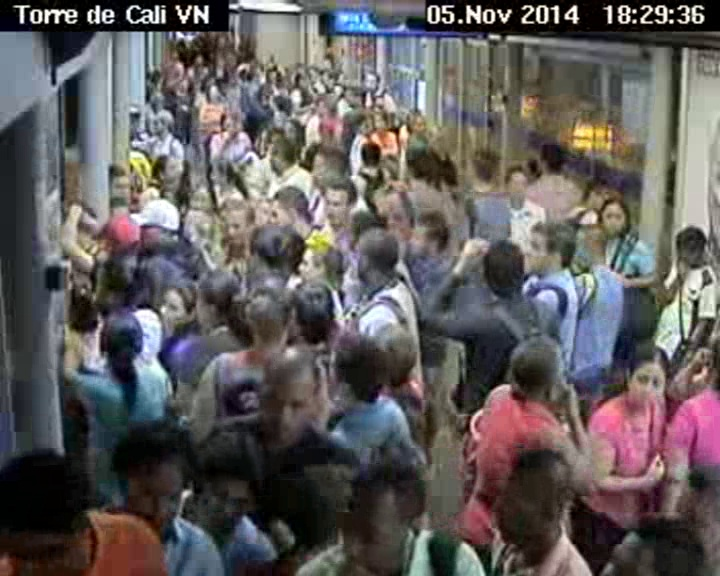person: (1, 429, 96, 576), (330, 456, 437, 573), (482, 443, 581, 558), (106, 417, 196, 539), (250, 348, 322, 454), (188, 436, 255, 542), (495, 330, 575, 408), (322, 336, 391, 418), (469, 232, 533, 304), (94, 305, 153, 379), (616, 341, 674, 416), (352, 229, 408, 297), (286, 280, 341, 348), (524, 220, 582, 282), (129, 197, 186, 252), (154, 276, 206, 336), (196, 270, 247, 328), (266, 182, 317, 239), (369, 179, 417, 232), (95, 212, 141, 262), (409, 209, 454, 259), (221, 203, 262, 256), (667, 225, 714, 266), (321, 180, 358, 229), (310, 143, 353, 181), (203, 156, 245, 192), (596, 196, 632, 236), (102, 160, 134, 202), (289, 241, 323, 279), (503, 165, 530, 210), (537, 142, 567, 180), (268, 137, 297, 172), (153, 151, 179, 187), (145, 114, 174, 136), (217, 112, 240, 138), (409, 107, 427, 137), (282, 116, 309, 136), (360, 142, 382, 166), (364, 68, 384, 93), (204, 82, 223, 101), (372, 113, 389, 133), (332, 83, 351, 96), (293, 72, 310, 86), (267, 67, 280, 82)
